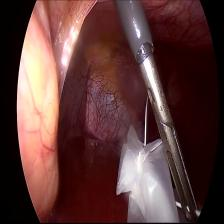Grasper: (134, 40, 206, 224)
Specimen Bag: (109, 129, 174, 224)
